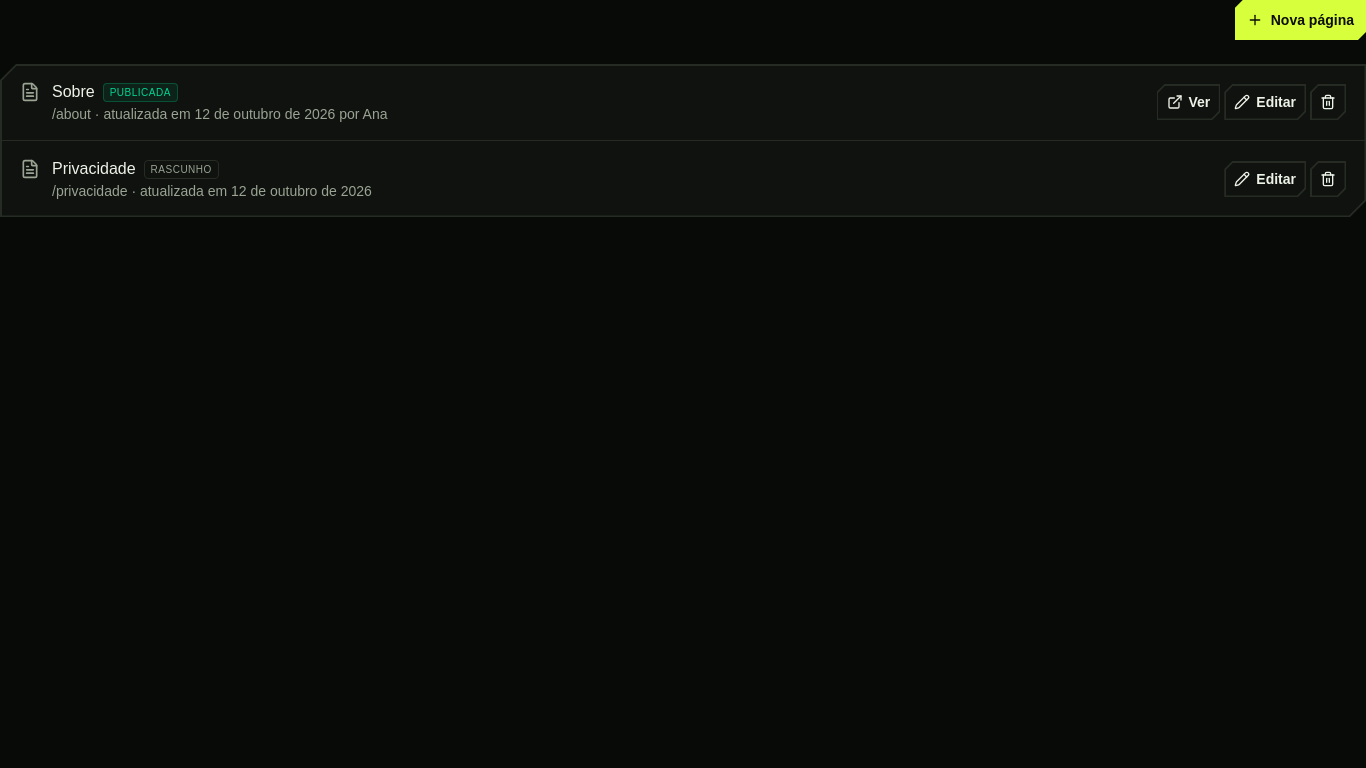
Test case: <PagesTable /> › exclui depois de confirmar, mandando a versão
Later steps or results of the test are not shown.
Click the button named "Excluir Sobre" at (1328, 102), box [1310,84,1346,120]
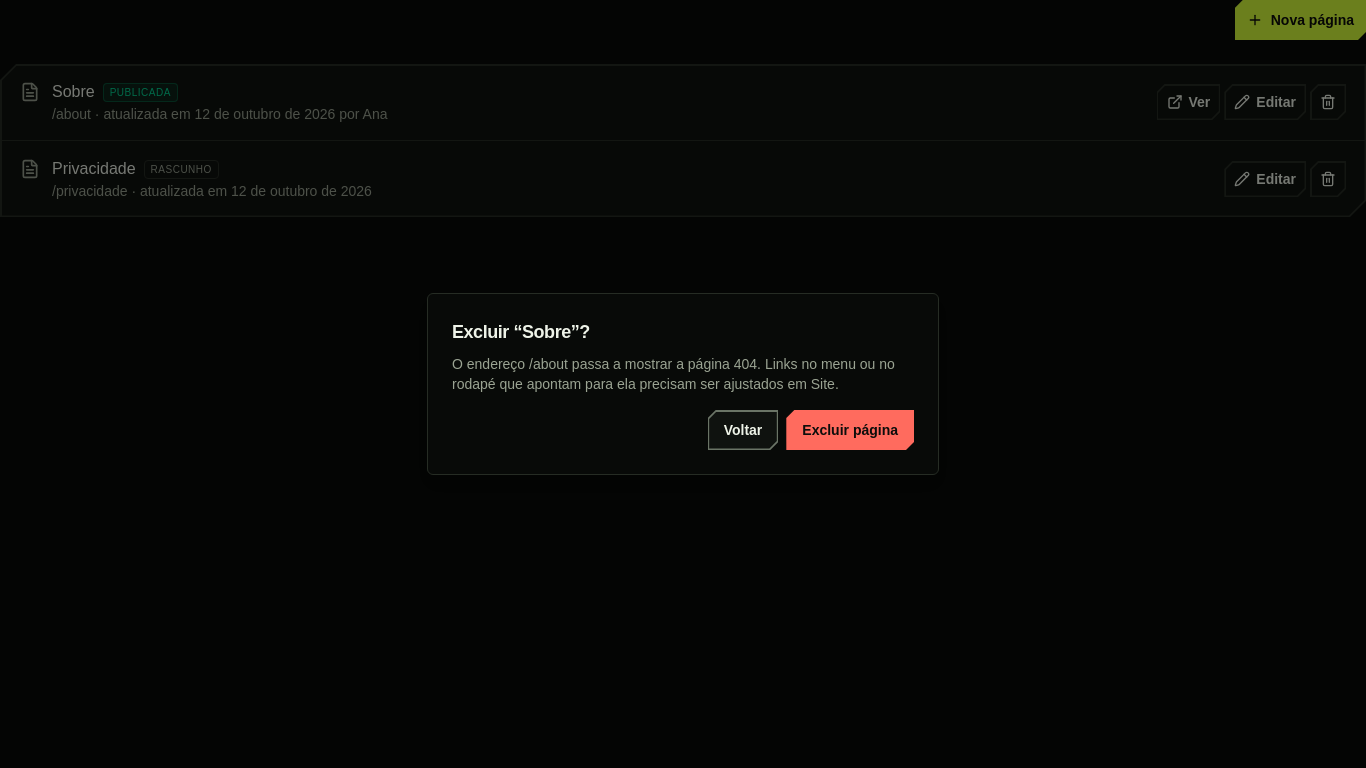
Expected: the text "/about passa a mostrar a página 404" is shown, [452,354,914,394]
